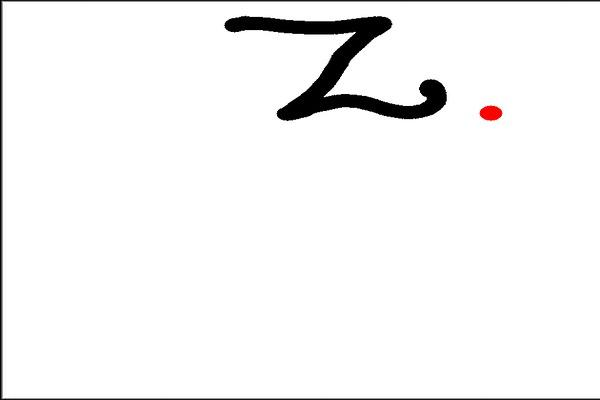Z: (214, 9, 456, 129)
